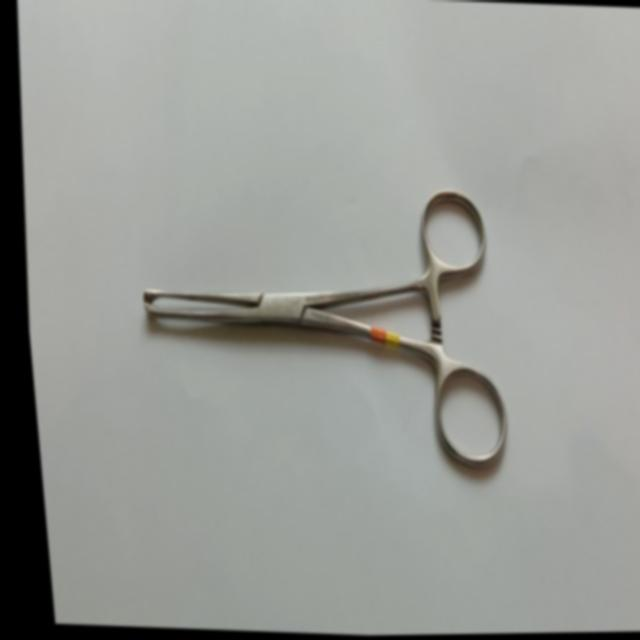AllisForcep: (118, 173, 514, 472)
